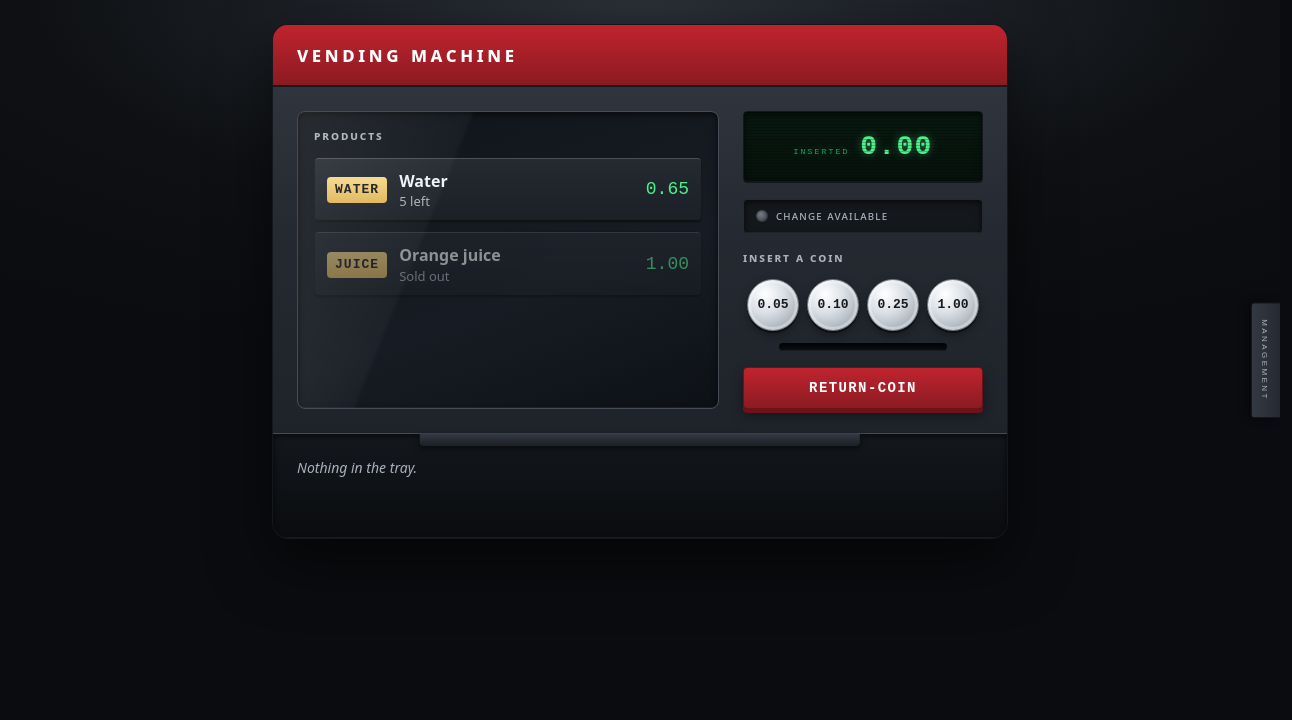
Test case: MachinePage › drops the coins into the tray when the refund button is pressed
Expected: the button "WATER Water 0.65 5 left" is shown, [314,157,702,223]
Click the button "RETURN-COIN": (863, 388) [743,367,983,409]
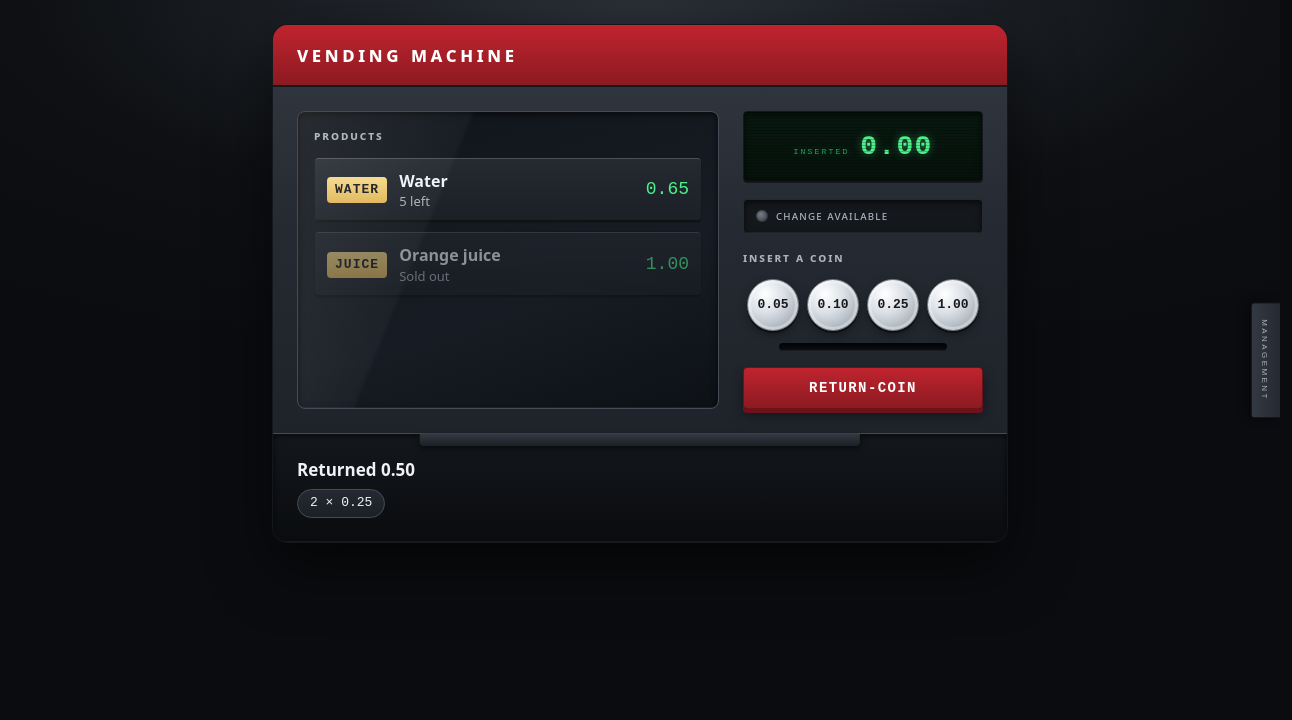
Now the message named "Dispense tray" shows "Returned 0.50", box [297,458,415,481]
Now the list item "2 × 0.25" is shown, box [297,489,385,518]
